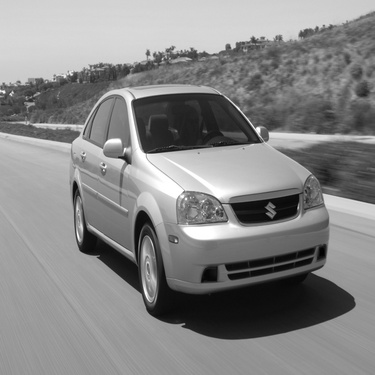car: (57, 77, 338, 321)
